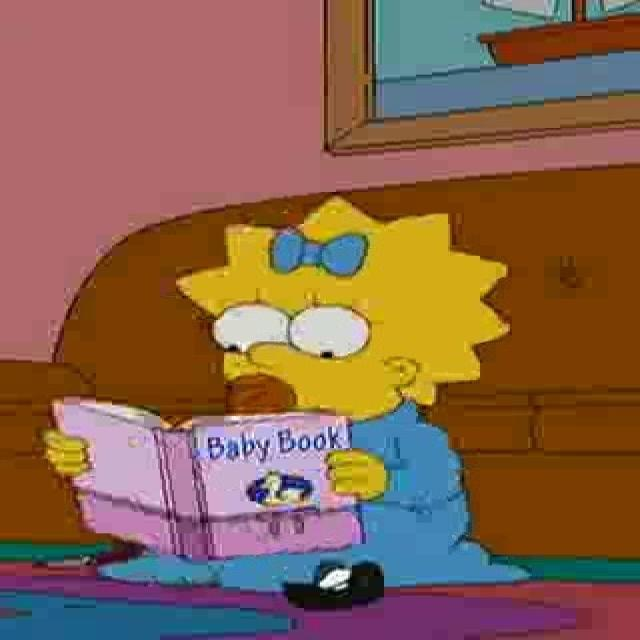Maggie Simpson: (172, 193, 516, 426)
